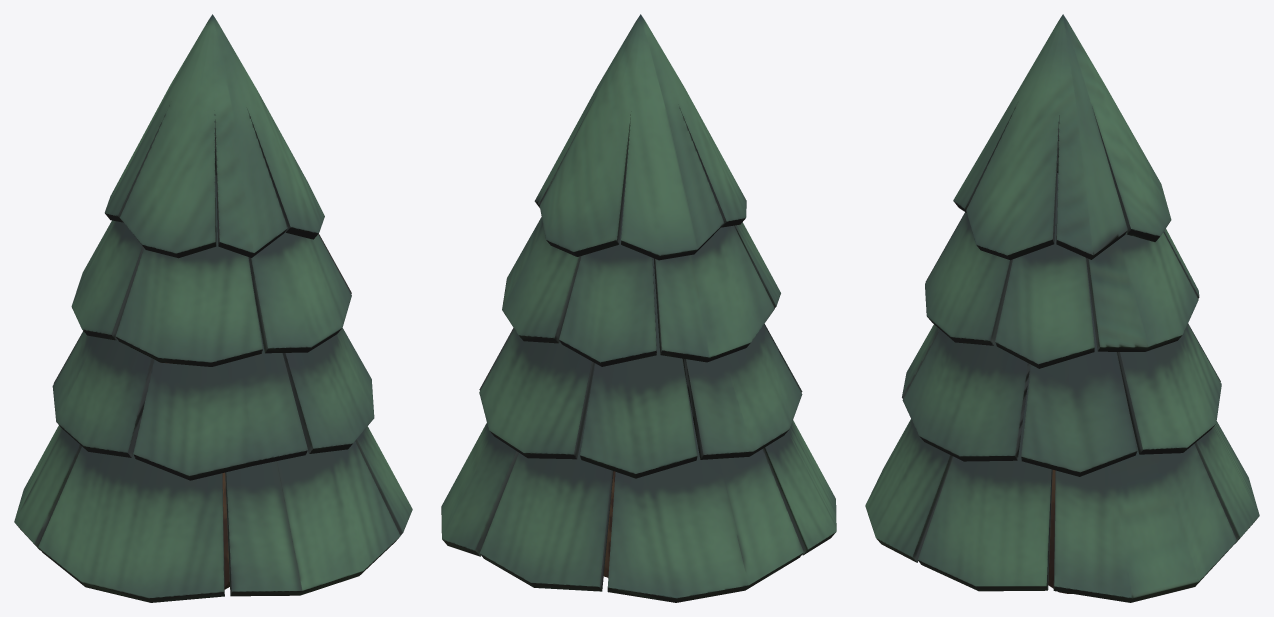
The model's file is lowpoly_pine_tree.glb.
3 renders of one model, left to right at view 1: azimuth 30°, elevation 25°; view 2: azimuth 150°, elevation 25°; view 3: azimuth 270°, elevation 25°, orthographic.
Visible parts, largest first — view 1: PineTree_001; view 2: PineTree_001; view 3: PineTree_001.
Boxes of the visible parts, x1=… form: PineTree_001: x1=14, y1=14, x2=412, y2=602; PineTree_001: x1=441, y1=14, x2=836, y2=602; PineTree_001: x1=865, y1=14, x2=1259, y2=602.
Size of the model in its own units: 162 by 250 by 163.
1 material, 1 textured.
